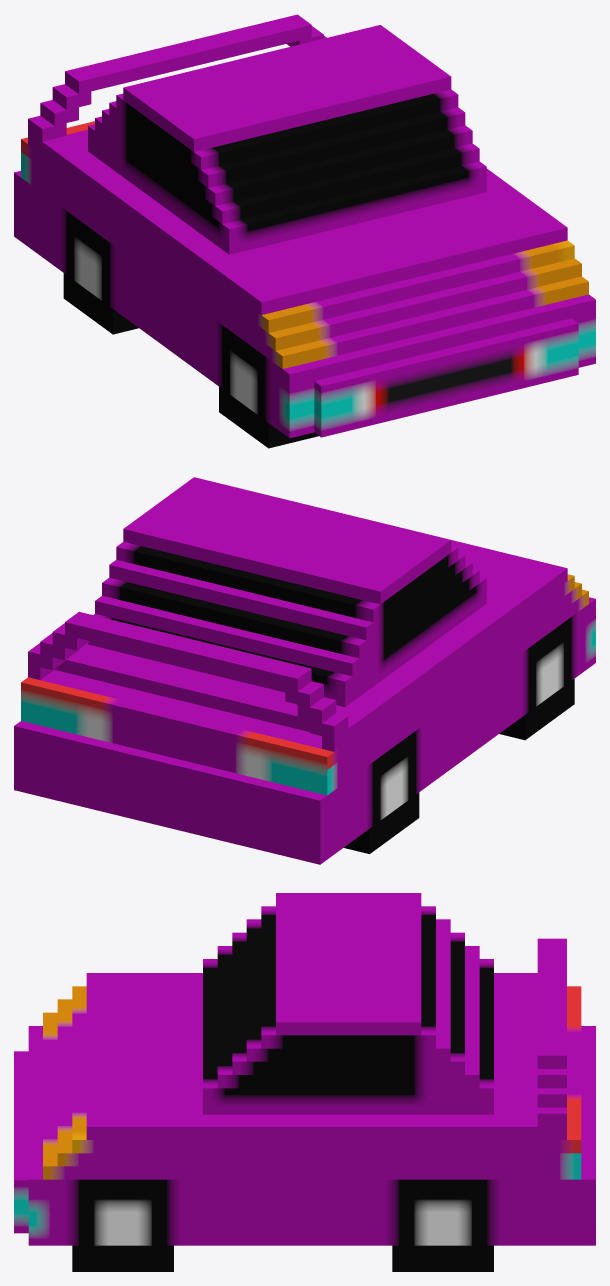
File: Car_8.fbx
3 views of the same model, one above another, from view 1: azimuth 30°, elevation 25°; view 2: azimuth 150°, elevation 25°; view 3: azimuth 270°, elevation 25° (orthographic). The views are drawn at different scales.
Parts seen in each view (by area): view 1: Car_8; view 2: Car_8; view 3: Car_8.
Boxes of the visible parts, x1,y1,x2,y2 form: Car_8: (14,14,595,448); Car_8: (14,477,595,864); Car_8: (14,893,595,1271).
Size of the model in its own units: 25 by 18 by 40.
Materials: 1 (1 with a texture image).
